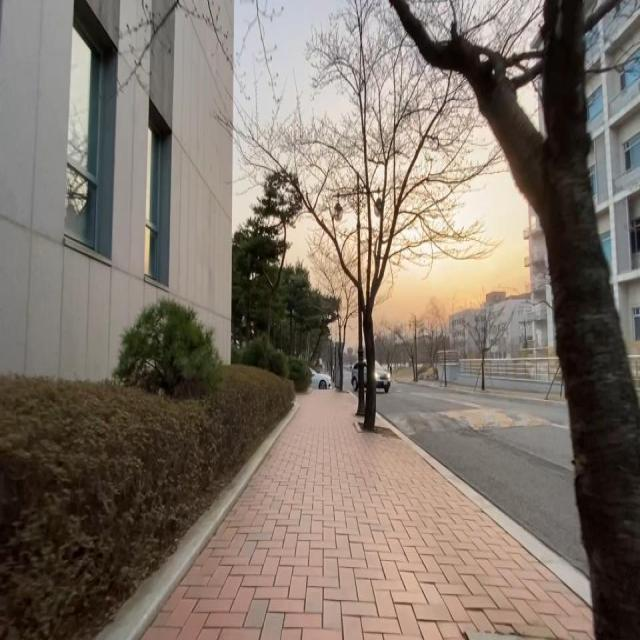sidewalk: (140, 391, 597, 640), (446, 383, 546, 399), (418, 380, 443, 386), (548, 394, 563, 401)
